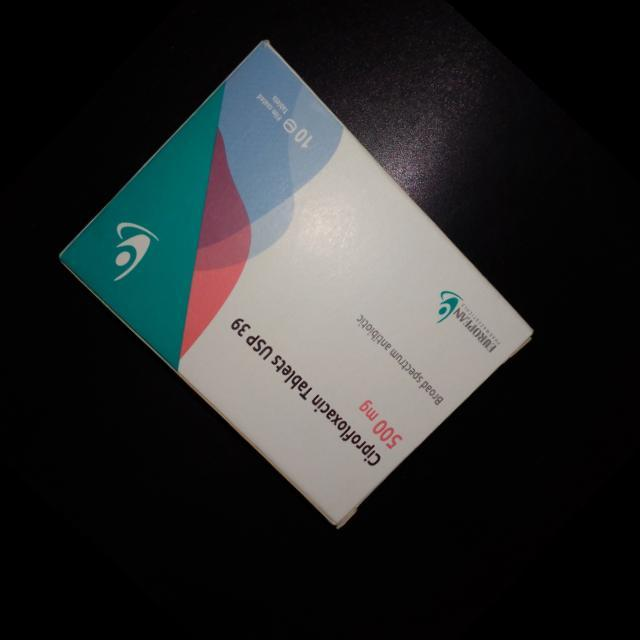Medicine Name: (293, 383, 393, 480)
